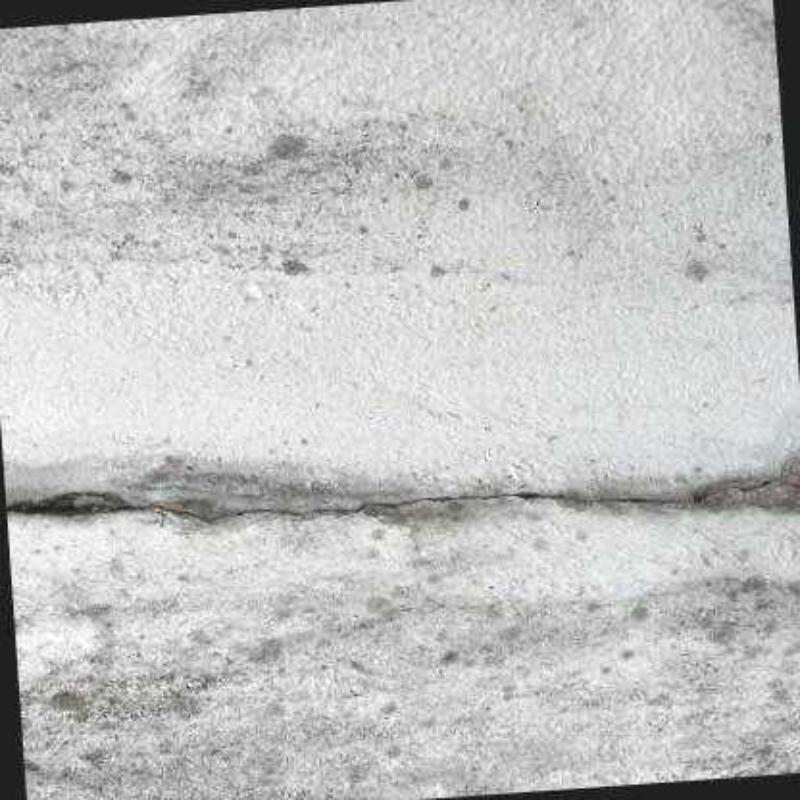crack: (6, 476, 800, 521)
